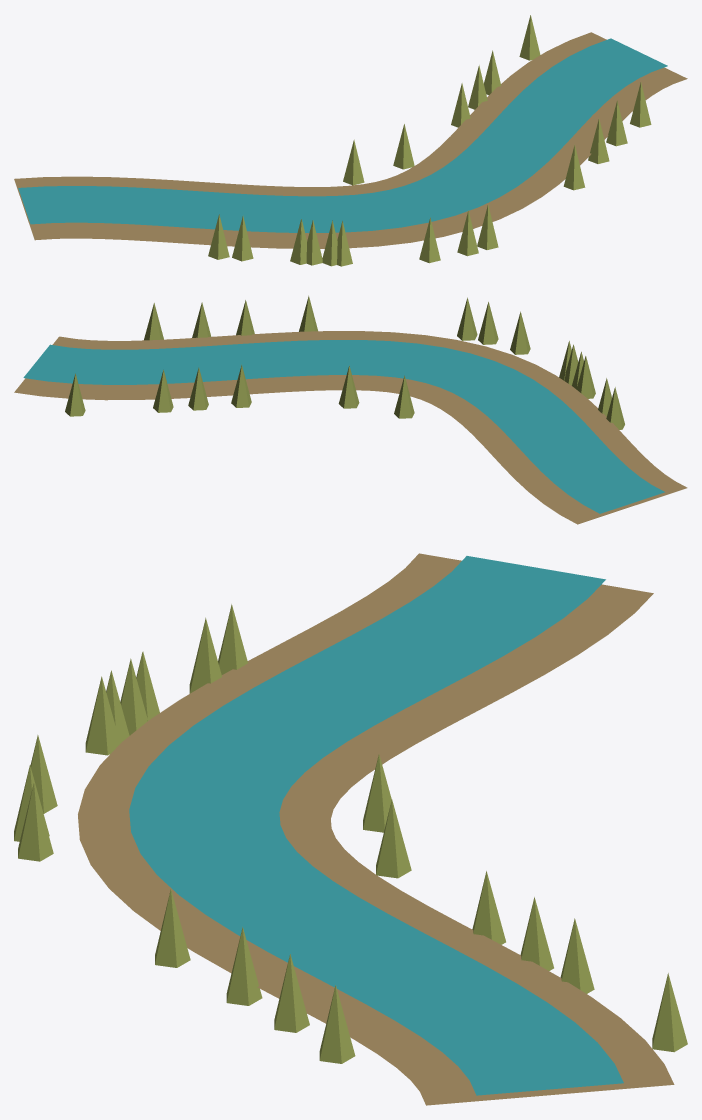
Rendered from FEATURE_FLOODPLAINS_GRASSLAND_v02.fbx.
3 renders of one model, top to bottom at view 1: azimuth 30°, elevation 25°; view 2: azimuth 150°, elevation 25°; view 3: azimuth 270°, elevation 25°, orthographic. The views are drawn at different scales.
Parts seen in each view (by area): view 1: River_channel.005, Alluvial_banks.005, Riparian_grass.109, Riparian_grass.102, Riparian_grass.105, Riparian_grass.112, Riparian_grass.115, Riparian_grass.118, Riparian_grass.119, Riparian_grass.107, Riparian_grass.103, Riparian_grass.111 (+8 smaller); view 2: River_channel.005, Alluvial_banks.005, Riparian_grass.105, Riparian_grass.102, Riparian_grass.104, Riparian_grass.116, Riparian_grass.118, Riparian_grass.111, Riparian_grass.113, Riparian_grass.114, Riparian_grass.115, Riparian_grass.110 (+5 smaller); view 3: River_channel.005, Alluvial_banks.005, Riparian_grass.112, Riparian_grass.117, Riparian_grass.102, Riparian_grass.103, Riparian_grass.104, Riparian_grass.107, Riparian_grass.111, Riparian_grass.108, Riparian_grass.105, Riparian_grass.113 (+6 smaller).
Part boxes in pixels (<box>): River_channel.005: <box>18,38,667,232</box>; Alluvial_banks.005: <box>14,32,687,248</box>; Riparian_grass.109: <box>208,214,229,259</box>; Riparian_grass.102: <box>477,204,498,249</box>; Riparian_grass.105: <box>343,139,364,185</box>; Riparian_grass.112: <box>630,82,651,127</box>; Riparian_grass.115: <box>457,210,478,256</box>; Riparian_grass.118: <box>419,217,440,263</box>; Riparian_grass.119: <box>232,215,253,261</box>; Riparian_grass.107: <box>563,144,585,190</box>; Riparian_grass.103: <box>606,100,627,146</box>; Riparian_grass.111: <box>393,124,414,169</box>; River_channel.005: <box>23,340,664,513</box>; Alluvial_banks.005: <box>14,331,687,524</box>; Riparian_grass.105: <box>394,375,414,418</box>; Riparian_grass.102: <box>457,297,477,340</box>; Riparian_grass.104: <box>65,373,85,416</box>; Riparian_grass.116: <box>188,367,208,410</box>; Riparian_grass.118: <box>510,311,530,354</box>; Riparian_grass.111: <box>338,365,359,408</box>; Riparian_grass.113: <box>153,370,173,412</box>; Riparian_grass.114: <box>231,364,251,407</box>; Riparian_grass.115: <box>478,302,498,344</box>; Riparian_grass.110: <box>576,356,595,398</box>; River_channel.005: <box>129,556,623,1095</box>; Alluvial_banks.005: <box>78,553,674,1105</box>; Riparian_grass.112: <box>319,985,355,1063</box>; Riparian_grass.117: <box>226,927,262,1005</box>; Riparian_grass.102: <box>18,782,53,861</box>; Riparian_grass.103: <box>274,954,309,1032</box>; Riparian_grass.104: <box>652,973,687,1052</box>; Riparian_grass.107: <box>155,889,190,967</box>; Riparian_grass.111: <box>376,799,411,878</box>; Riparian_grass.108: <box>85,676,120,755</box>; Riparian_grass.105: <box>363,754,391,832</box>; Riparian_grass.113: <box>560,918,594,993</box>.
Size of the model in its own units: 165 by 10 by 85.15.
